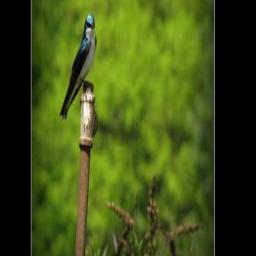Swallow: (59, 12, 97, 122)
